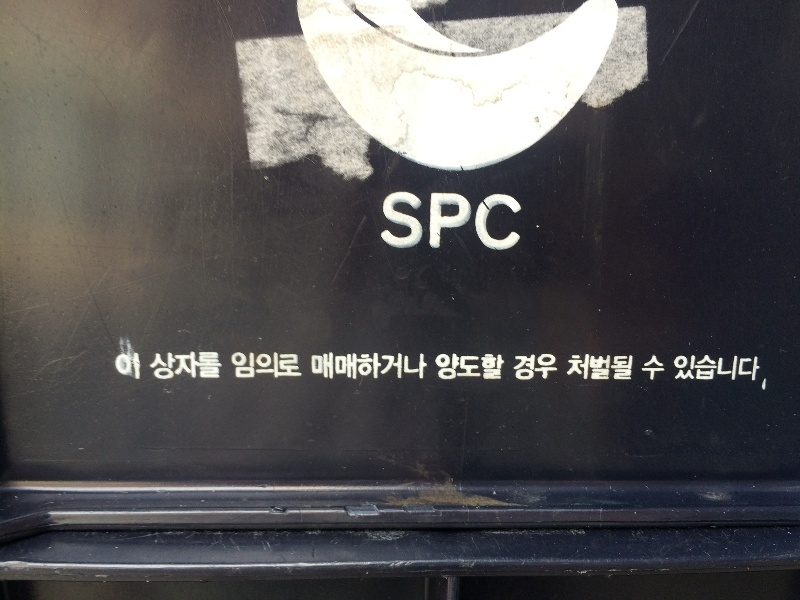text: (385, 191, 400, 255), (401, 191, 416, 255), (417, 191, 432, 255), (433, 191, 448, 255), (449, 191, 464, 255), (465, 191, 480, 255), (481, 191, 496, 255), (497, 191, 512, 255), (513, 191, 524, 255), (753, 355, 769, 392), (689, 355, 704, 392), (705, 355, 720, 392), (721, 355, 736, 392), (737, 355, 752, 392), (674, 355, 688, 392), (161, 351, 176, 382), (177, 351, 192, 382), (193, 351, 208, 382), (209, 351, 224, 382), (321, 352, 336, 382), (337, 352, 352, 382), (353, 352, 368, 382), (369, 352, 384, 382), (385, 352, 400, 382), (401, 352, 416, 382), (577, 352, 592, 382), (593, 352, 608, 382), (609, 352, 624, 382), (113, 352, 128, 381), (449, 352, 464, 381), (465, 352, 480, 381), (481, 352, 496, 381), (529, 353, 544, 382), (241, 351, 256, 379), (257, 351, 272, 379), (273, 351, 288, 379), (434, 352, 448, 381), (514, 353, 528, 382), (289, 351, 303, 379), (545, 353, 558, 382), (129, 352, 141, 381), (657, 354, 669, 382), (417, 352, 428, 382), (645, 354, 656, 382), (310, 352, 320, 382), (230, 351, 240, 379), (625, 352, 634, 382), (568, 352, 576, 382), (497, 352, 505, 381), (153, 351, 160, 382), (383, 191, 384, 255)
